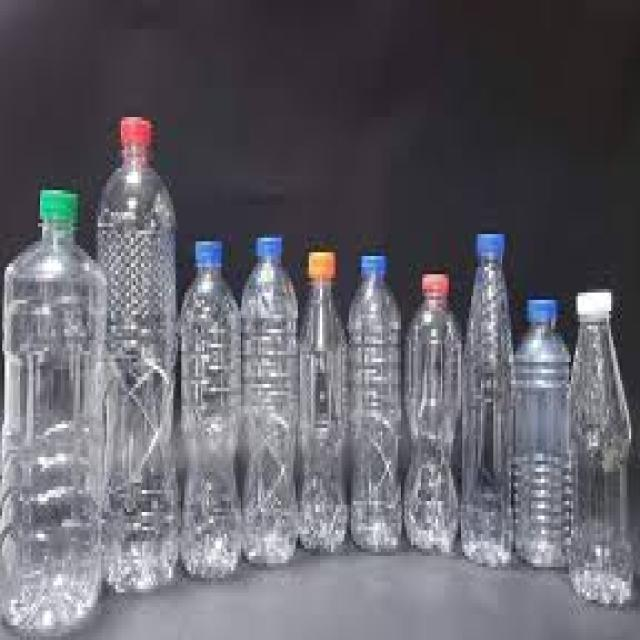Plastico: (0, 190, 109, 625), (95, 118, 180, 588), (176, 239, 248, 574), (234, 239, 305, 555), (459, 229, 516, 569)
